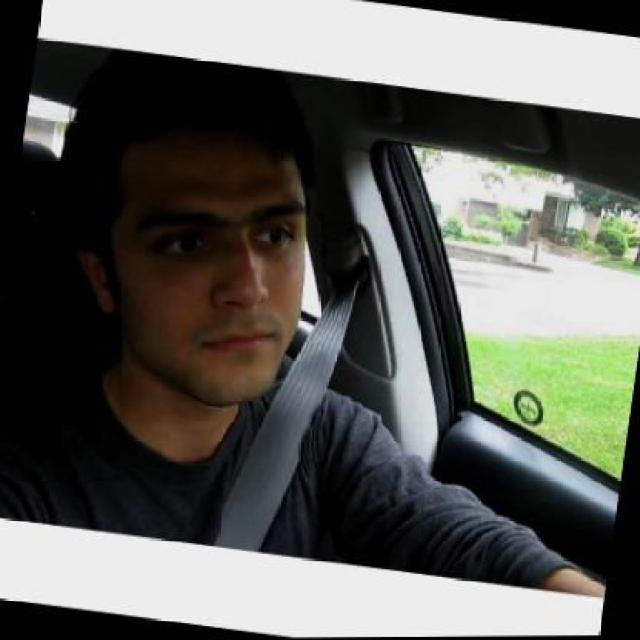attentif: (54, 46, 332, 414)
